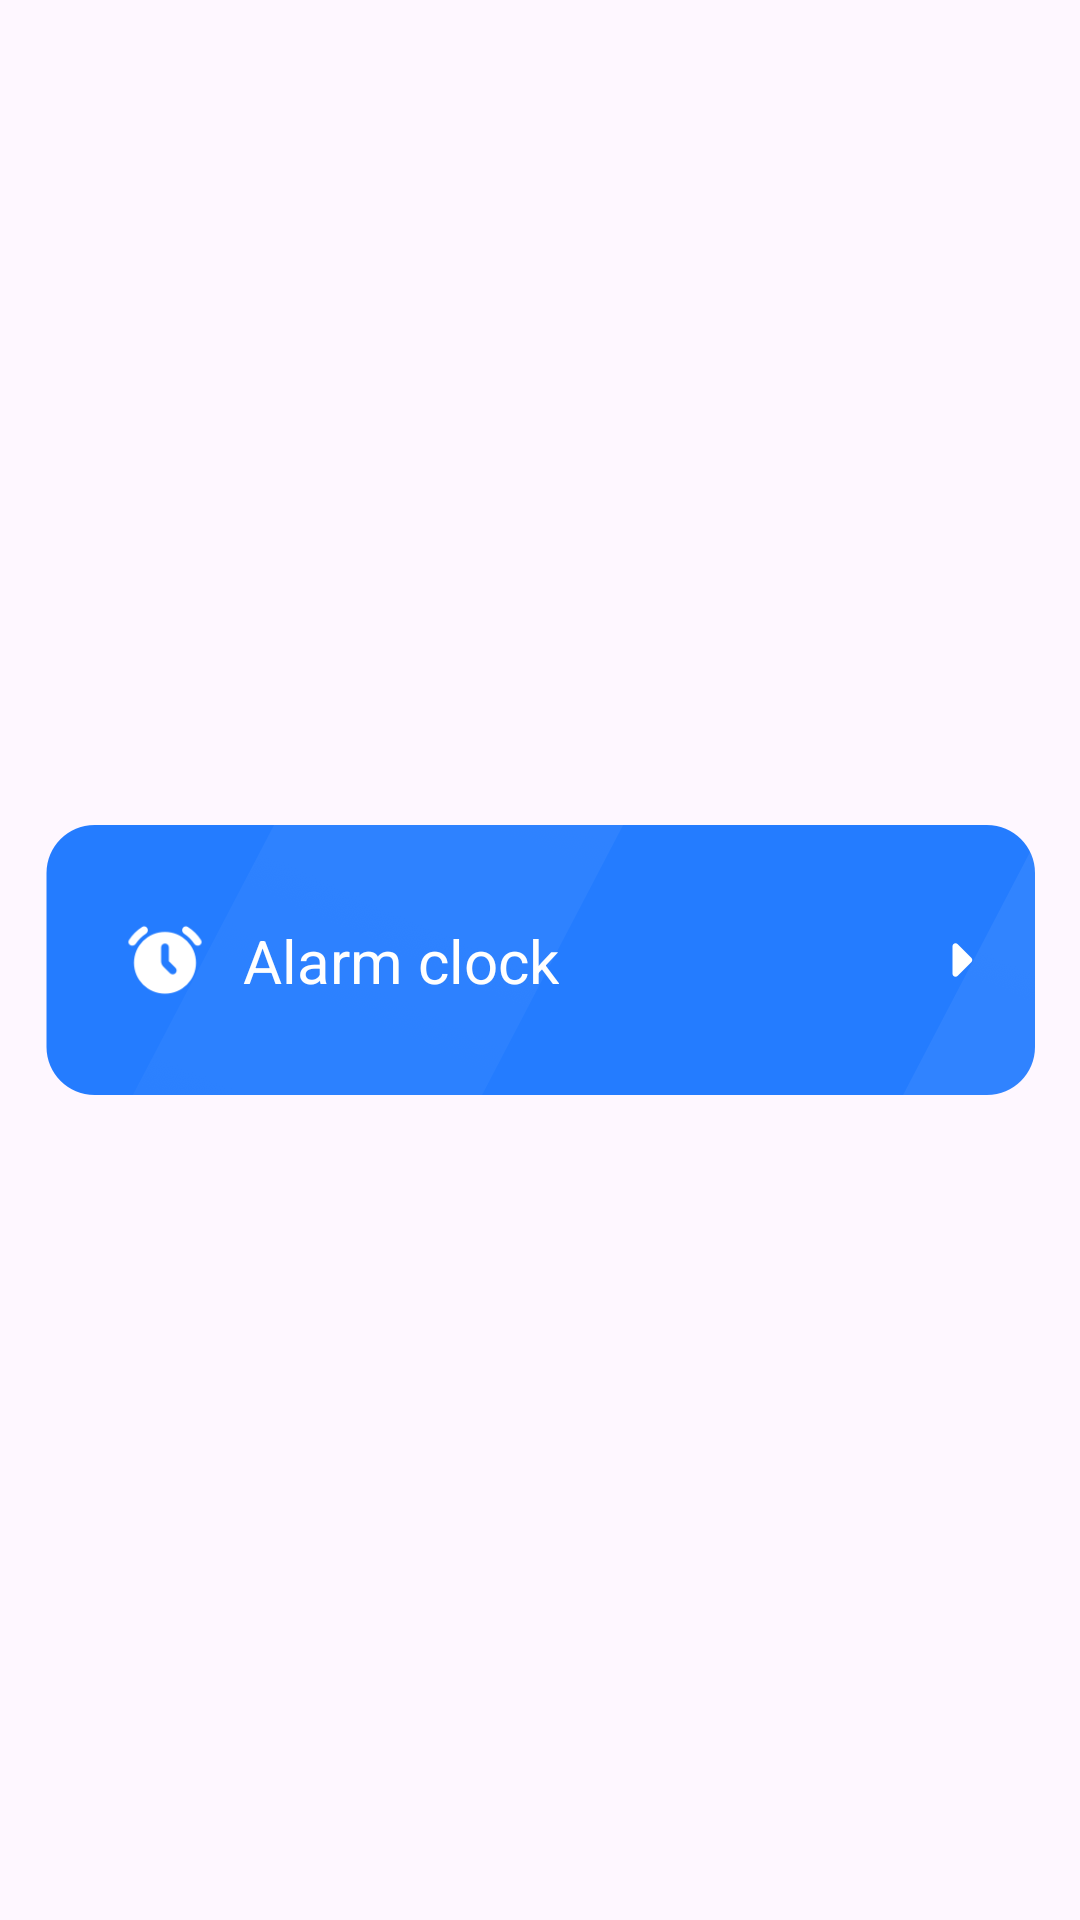

Icon click points for this 1080x1920 phone screenshot, format [x,y]:
setting clock: [165,960]
setting next: [962,960]
